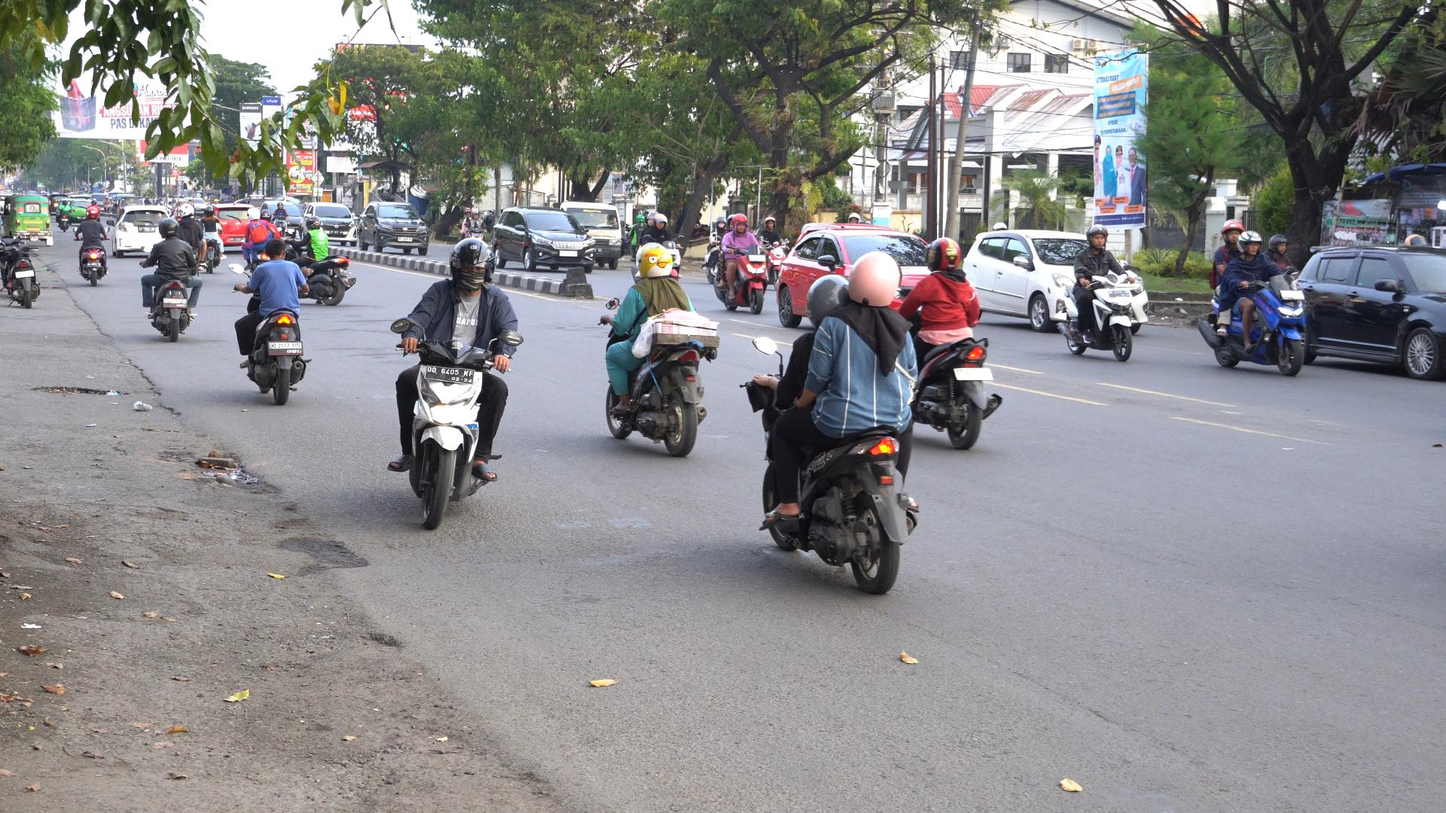number-plate: (422, 362, 475, 387)
